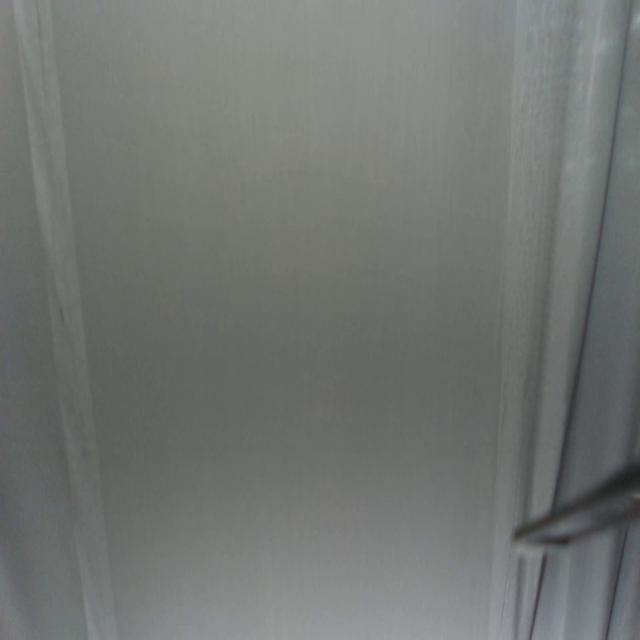crease: (490, 0, 640, 636), (12, 0, 118, 640)
